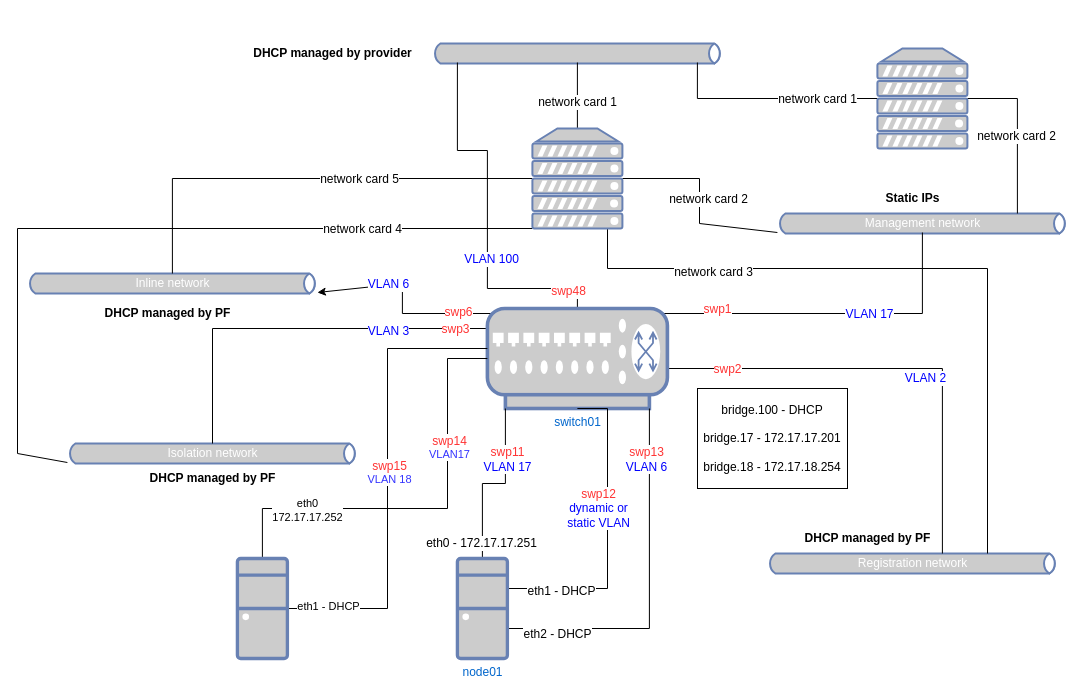
Some shapes in this 1086 by 696 pixel diagram are drawn without their labels. The shapes that lost their labels are listed below. From the top down, each one's centre as x and y in pixels, then its label:
point (577, 53): Management Libvirt or Virtualbox (internet)
point (922, 98): AD
point (577, 178): PF server
point (262, 608): node02
